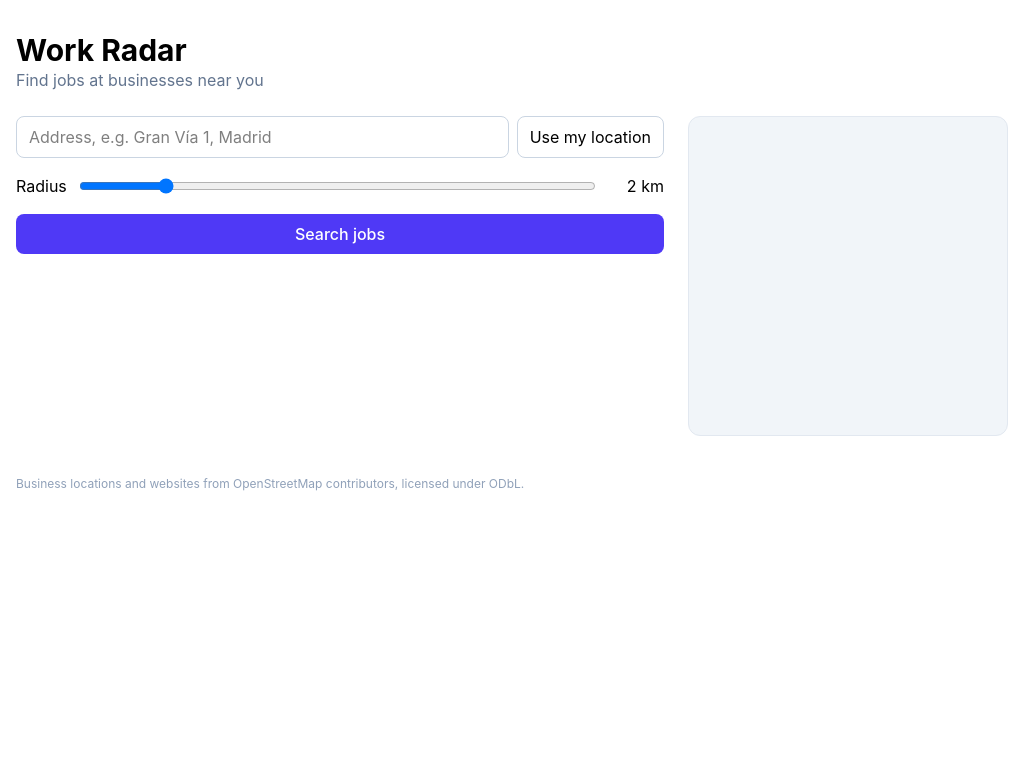
filters the postings by keyword, matching the business name as a whole
Type "Écublens" into the dropdown with placeholder "Address, e.g. Gran Vía 1, Madrid" at {"x": 262, "y": 137}, box [16, 116, 509, 158]
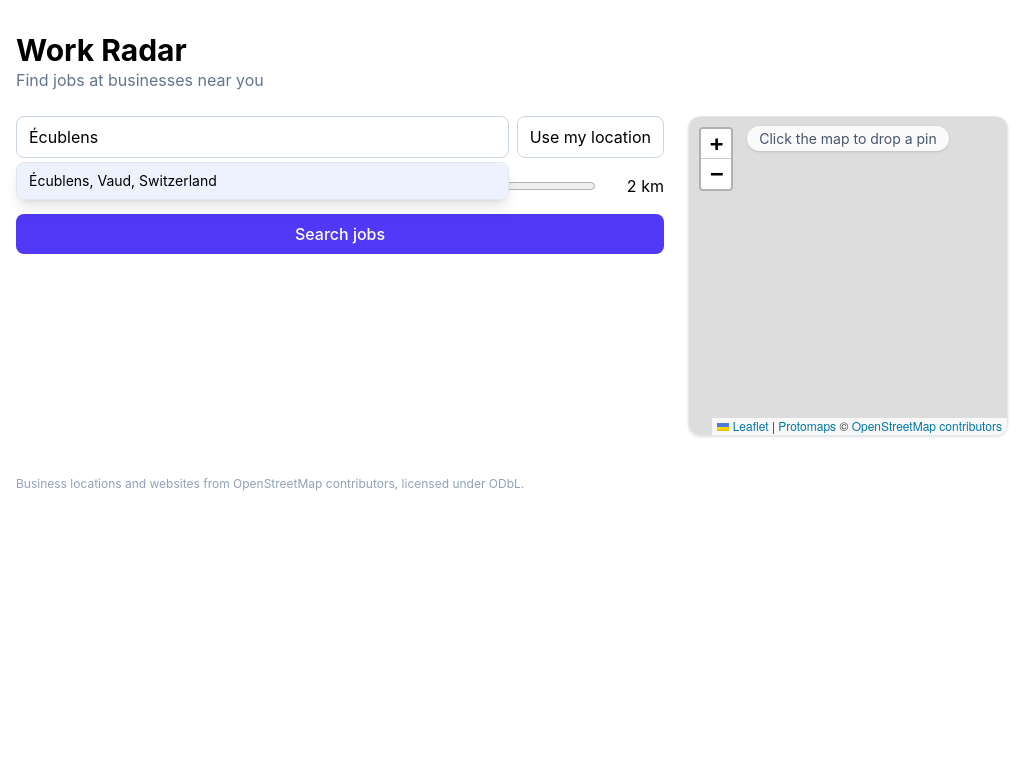
Press the mouse on the button "Écublens, Vaud, Switzerland" at {"x": 123, "y": 180}, box [17, 163, 508, 199]
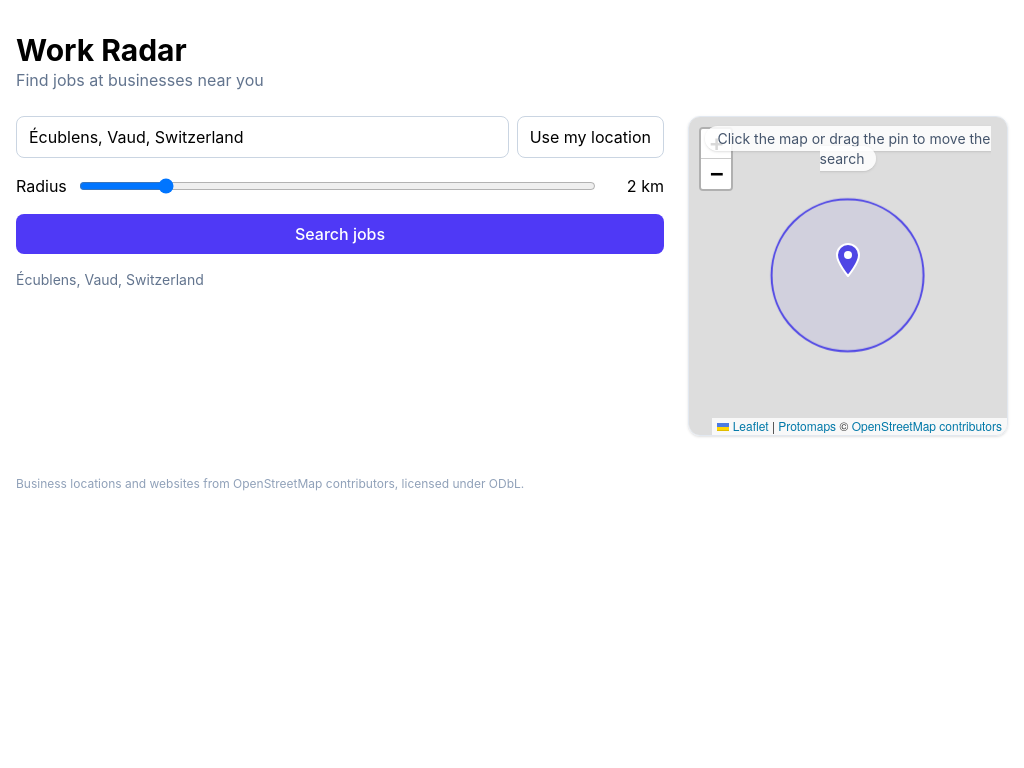
Click the button "Search jobs" at {"x": 340, "y": 234}, box [16, 214, 664, 254]
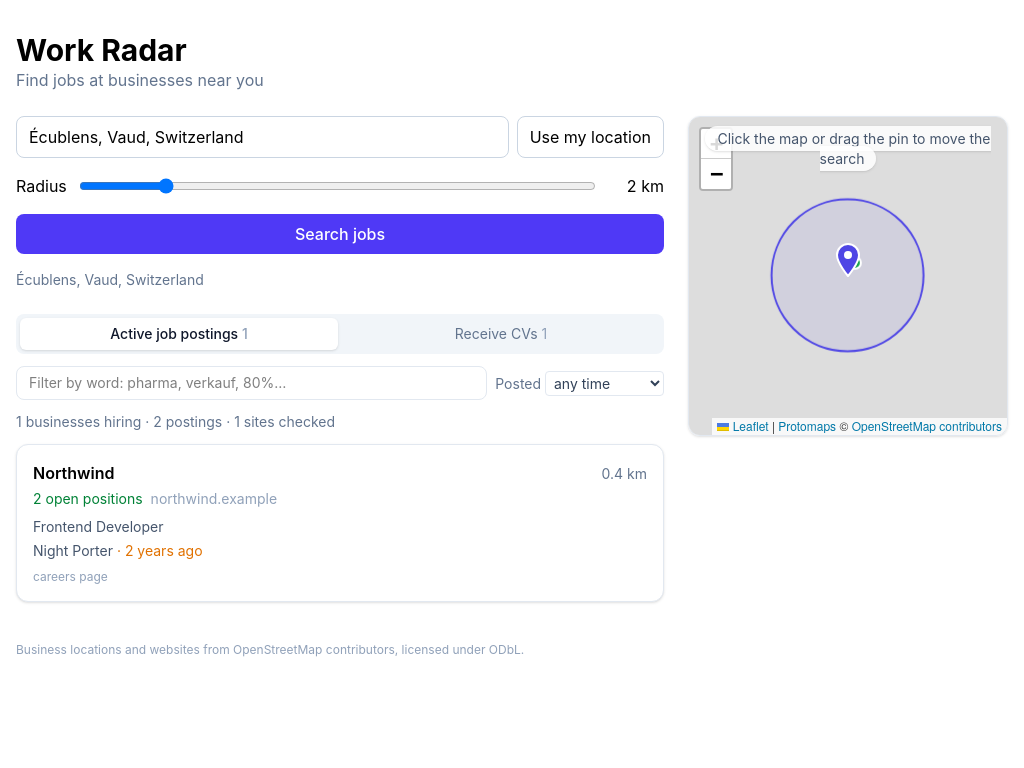
Type "porter" into the search field named "filter by keyword" at {"x": 252, "y": 383}, box [16, 366, 487, 400]
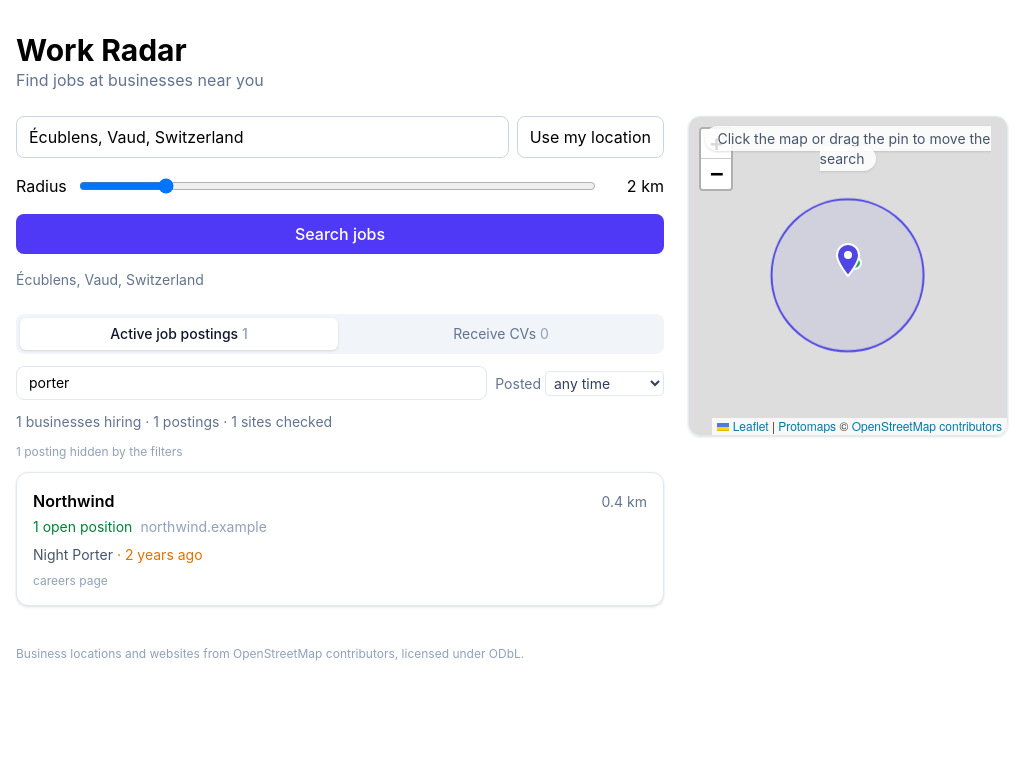
Expected: the list item "Night Porter" is shown, [33, 546, 113, 563]
Expected: the list item "Frontend Developer" is gone
Replace the text in the search field named "filter by keyword" with "northwind" at {"x": 252, "y": 383}, box [16, 366, 487, 400]
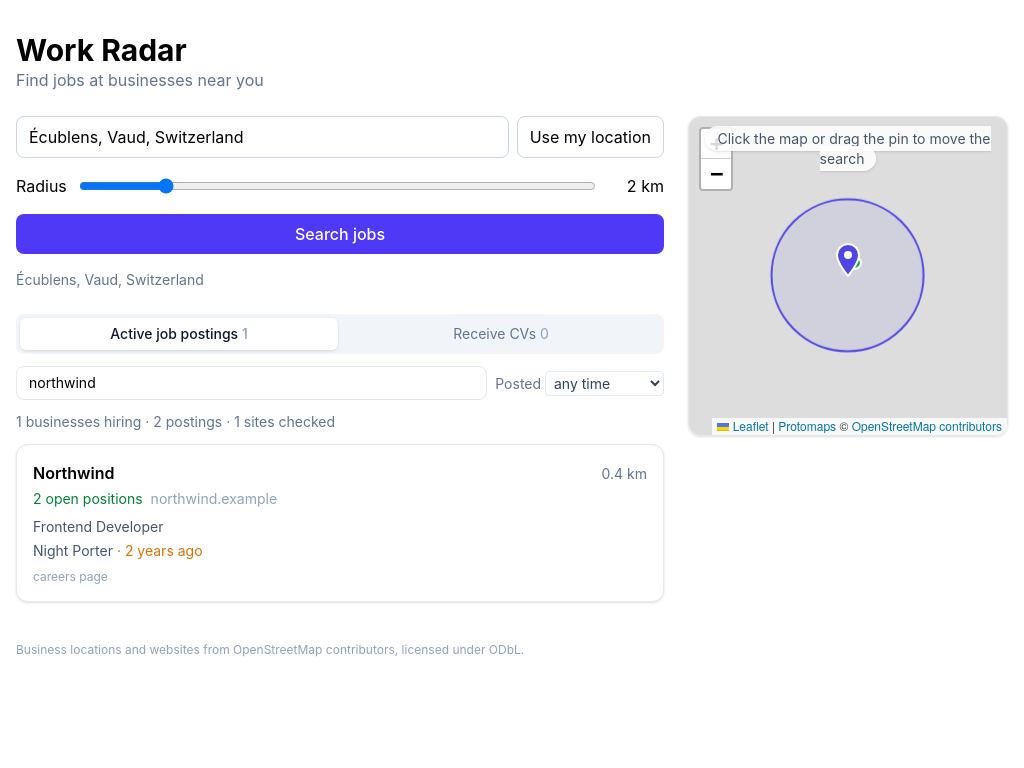
Expected: the list item "Night Porter" is shown, [33, 542, 113, 559]
Expected: the list item "Frontend Developer" is shown, [33, 518, 164, 535]
Replace the text in the search field named "filter by keyword" with "welder" at {"x": 252, "y": 383}, box [16, 366, 487, 400]
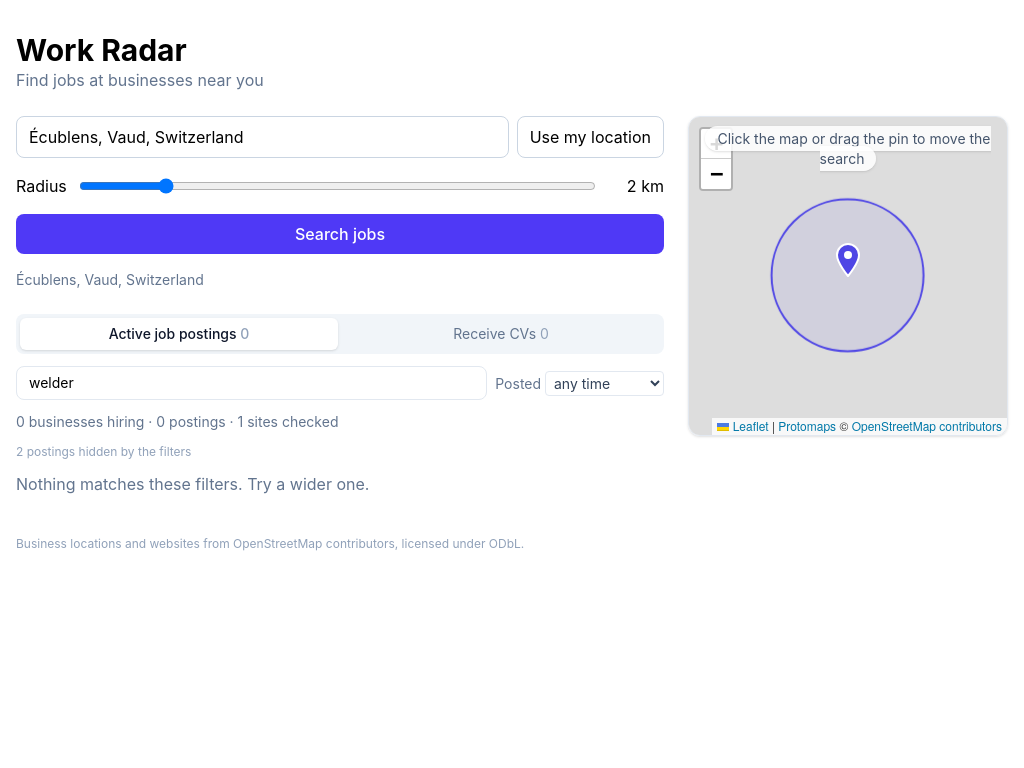
Expected: the heading "Northwind" is gone
Expected: the text "Nothing matches these filters. Try a wider one." is shown, [16, 474, 369, 494]
